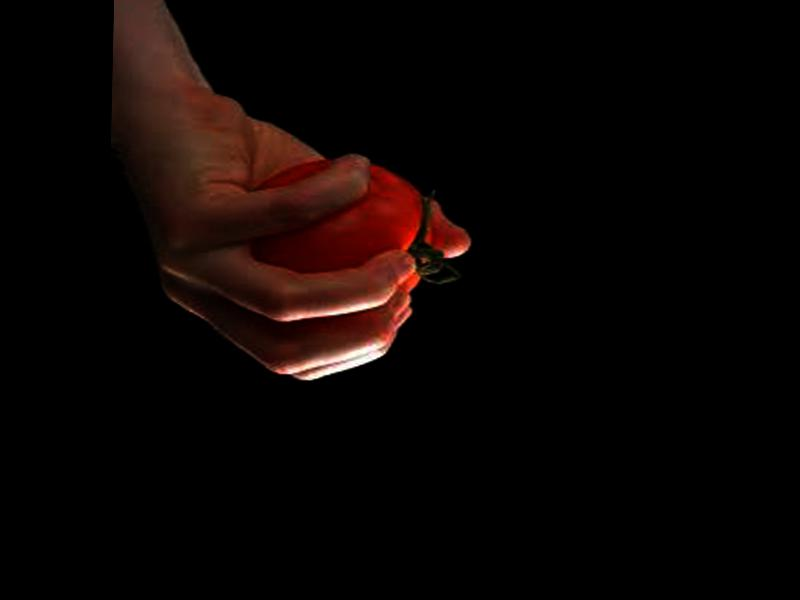Tomato: (244, 157, 425, 294)
